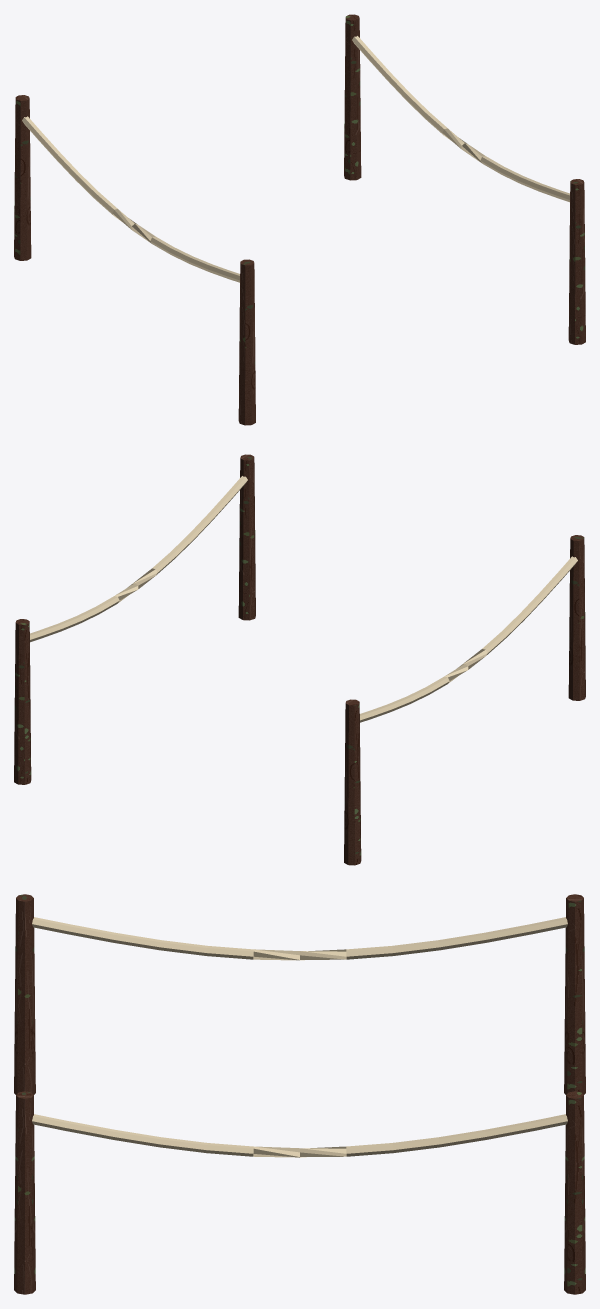
Rendered from bridge_rails.glb.
3 renders of one model, top to bottom at view 1: azimuth 30°, elevation 25°; view 2: azimuth 150°, elevation 25°; view 3: azimuth 270°, elevation 25°, orthographic. The views are drawn at different scales.
Parts seen in each view (by area): view 1: CornerPost; view 2: CornerPost; view 3: CornerPost.
Part boxes in pixels (left/top/right/bottom): CornerPost: left=14, top=14, right=585, bottom=425; CornerPost: left=14, top=454, right=585, bottom=865; CornerPost: left=14, top=894, right=585, bottom=1294.
Bounding box in the file's own units: 2.45 × 1.08 × 2.87.
2 materials, 1 textured.
